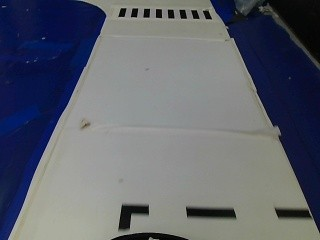crosswalk: (109, 6, 216, 21)
